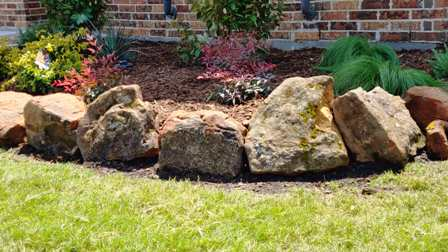grass: (3, 170, 445, 251)
rock: (159, 75, 445, 179), (1, 83, 157, 168)
